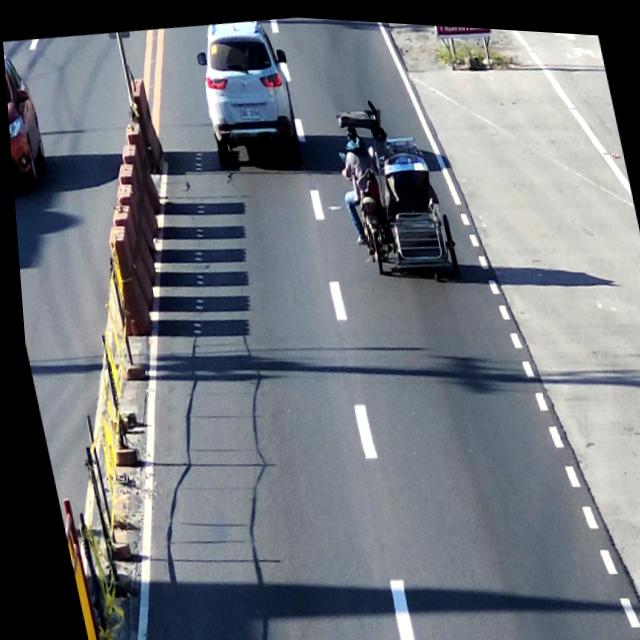Car: (183, 12, 306, 174)
License-Plate: (238, 103, 260, 120)
Tricycle: (328, 92, 462, 287)
